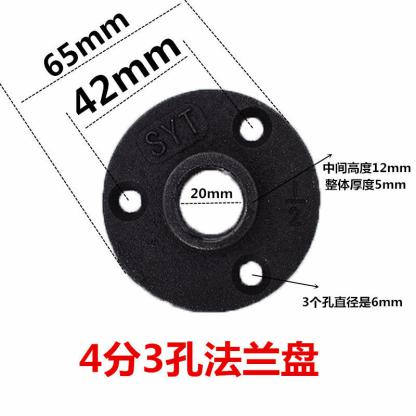FOD: (96, 85, 327, 317)
